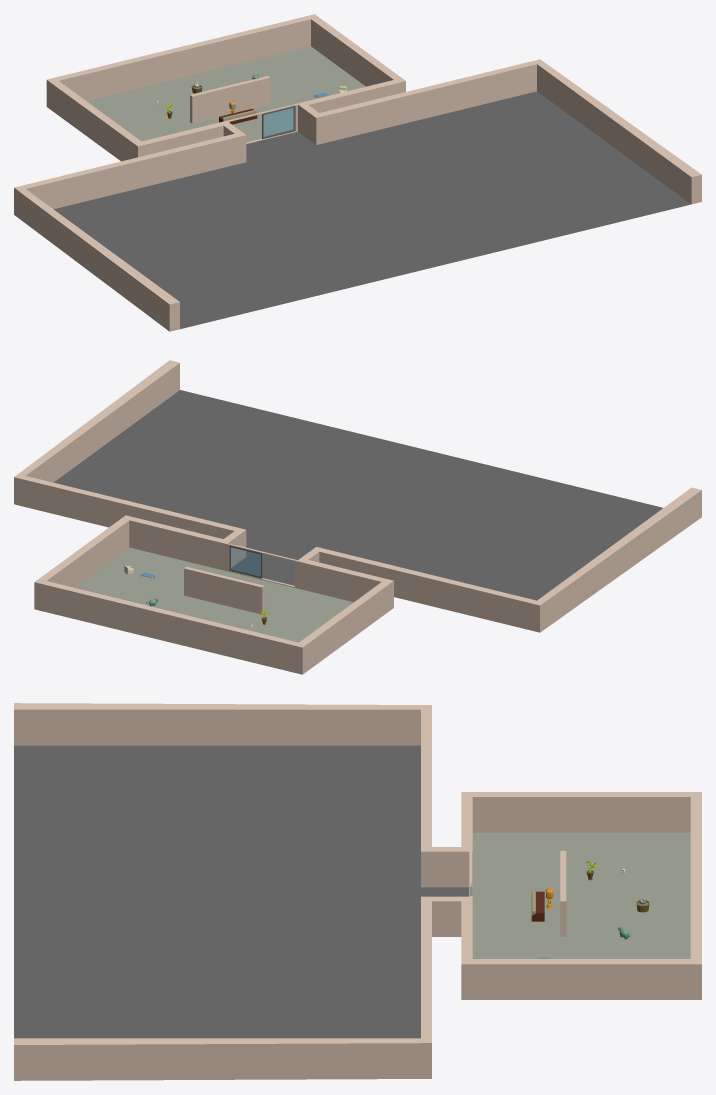
File: сцена 3 выставка.fbx
The picture shows the model from 3 angles, top to bottom: view 1: azimuth 30°, elevation 25°; view 2: azimuth 150°, elevation 25°; view 3: azimuth 270°, elevation 25°; orthographic projection. The views are drawn at different scales.
Parts seen in each view (by area): view 1: Пол.001, Стены.003, Дверь большая выставка; view 2: Пол.001, Стены.003, Дверь большая выставка, Дверной проем большой выставка; view 3: Пол.001, Стены.003.
Boxes of the visible parts, <box> form: Пол.001: <box>54,46,691,329</box>; Стены.003: <box>14,14,701,331</box>; Дверь большая выставка: <box>262,105,295,139</box>; Пол.001: <box>54,390,662,642</box>; Стены.003: <box>14,360,701,674</box>; Дверь большая выставка: <box>229,544,262,578</box>; Дверной проем большой выставка: <box>226,543,298,588</box>; Пол.001: <box>14,745,690,1038</box>; Стены.003: <box>14,703,701,1080</box>.
Size of the model in its own units: 5120 by 4354 by 250.
